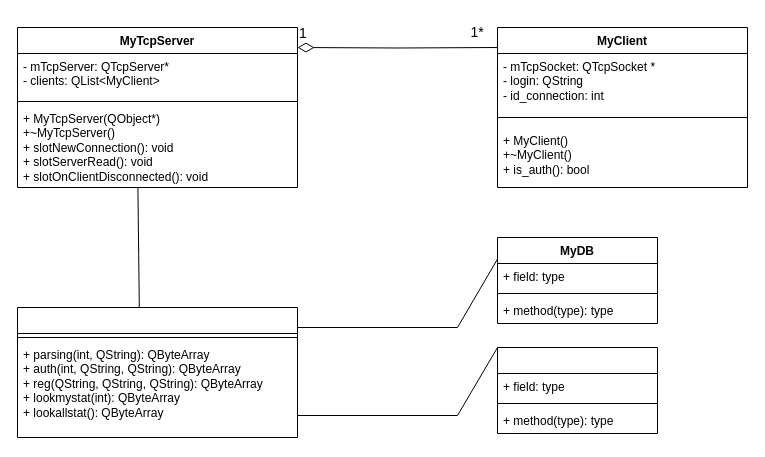
Image size: 765x457. Some labels were removed from this diagram. The box of each missing label's shape, as (x1, y1, x2, y2) in pixels:
Classname: (496, 346, 658, 434)
FunctionsForServer: (16, 306, 298, 438)
